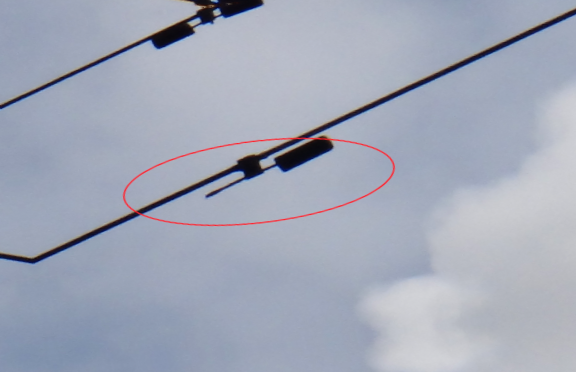damper_defect: (201, 134, 334, 199)
